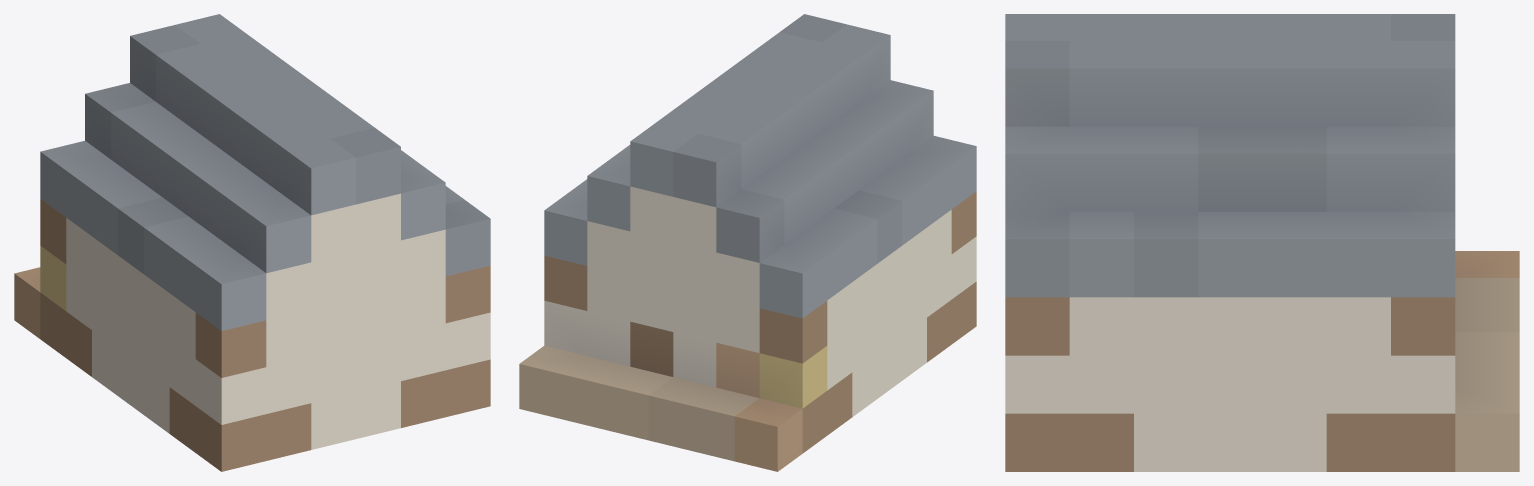
Rendered from thread_spinner.lite.glb.
3 renders of one model, left to right at view 1: azimuth 30°, elevation 25°; view 2: azimuth 150°, elevation 25°; view 3: azimuth 270°, elevation 25°, orthographic. The views are drawn at different scales.
Parts seen in each view (by area): view 1: thread_spinner; view 2: thread_spinner; view 3: thread_spinner.
Part boxes in pixels (x1,y1,x2,y2): thread_spinner: [14, 14, 490, 471]; thread_spinner: [519, 14, 976, 471]; thread_spinner: [1005, 14, 1519, 471].
Size of the model in its own units: 3 by 3 by 4.
